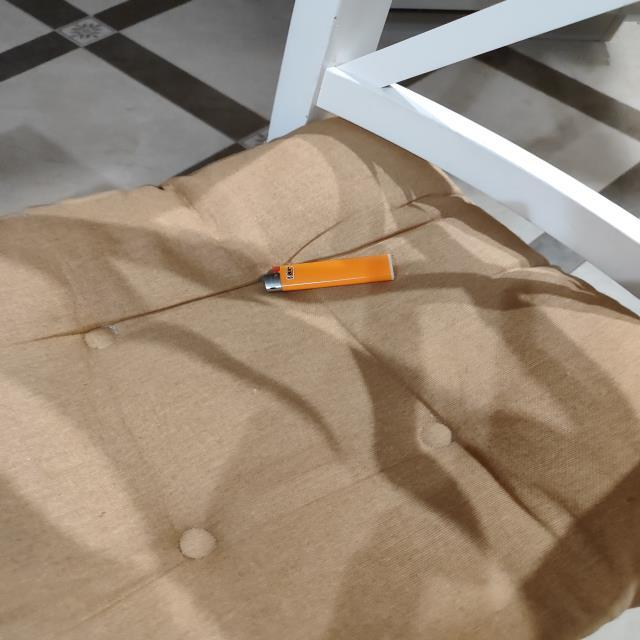lighter: (263, 255, 394, 292)
